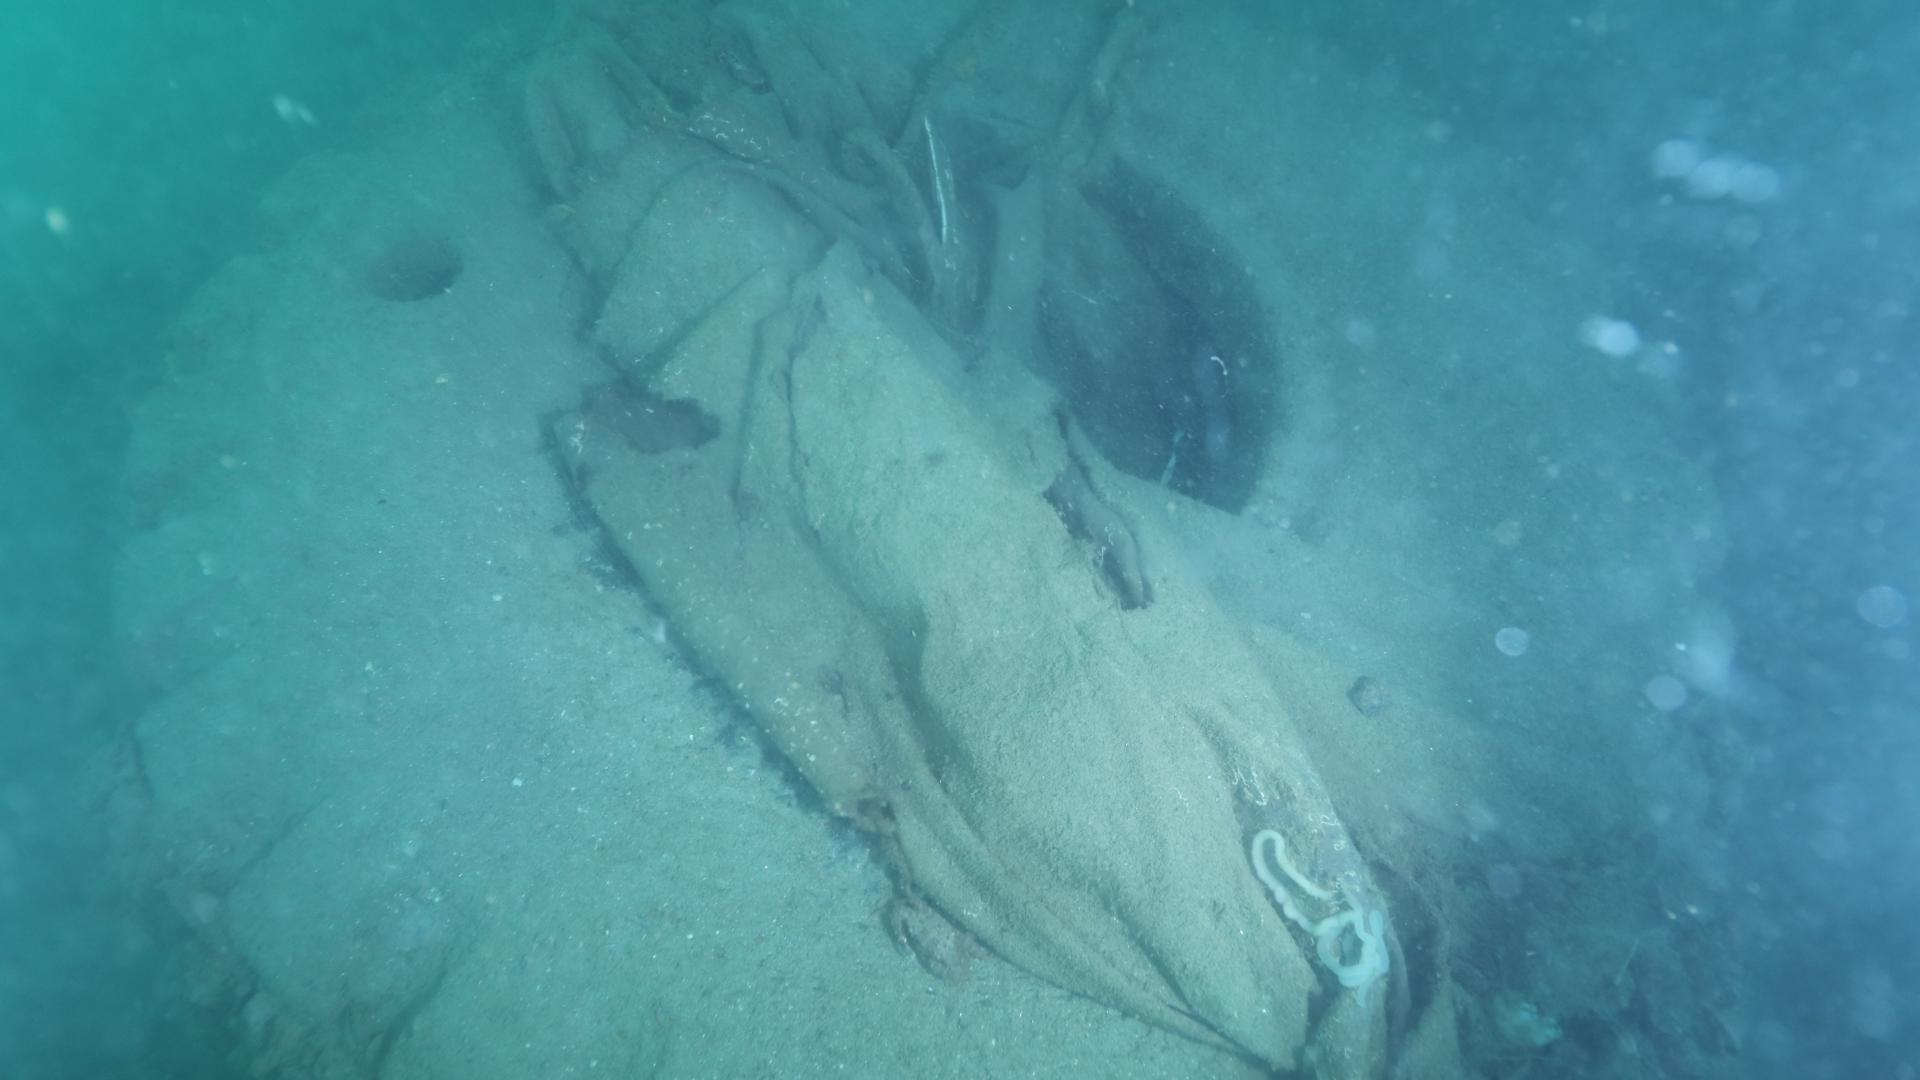tire: (115, 8, 1701, 1080)
